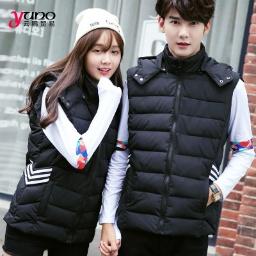face: (154, 1, 216, 55), (70, 30, 124, 86)
